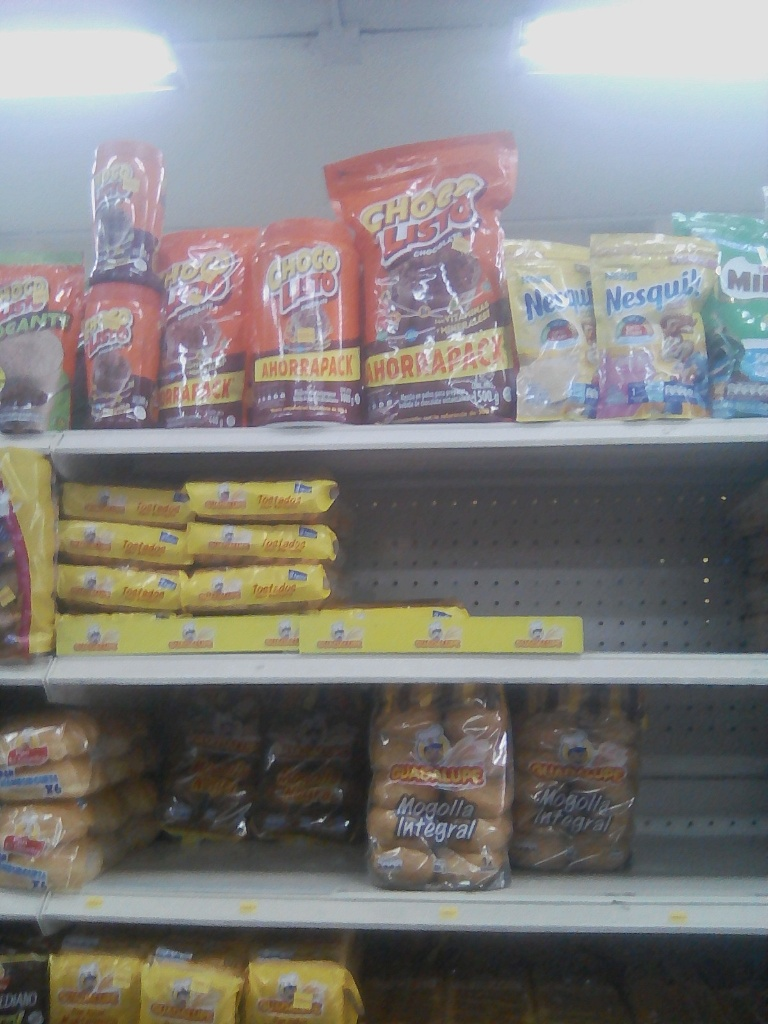COL0170102DYP50000: (1, 253, 84, 427)
COL0170103DYP1,500: (328, 127, 517, 419)
COL0170103DYP44000: (155, 231, 256, 426)
COL0170103TRR00100: (251, 217, 364, 426)
COL0170103TRR30000: (82, 282, 163, 426)
COL0170306DYP20000: (503, 235, 600, 421)
